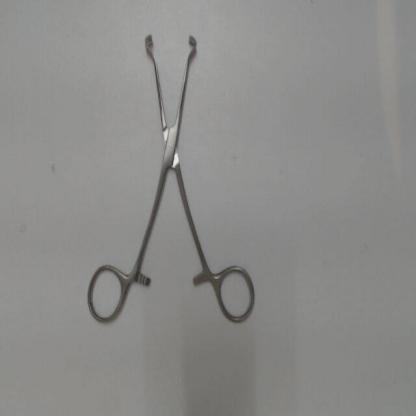Babcock Tissue Forceps: (80, 28, 262, 332)
